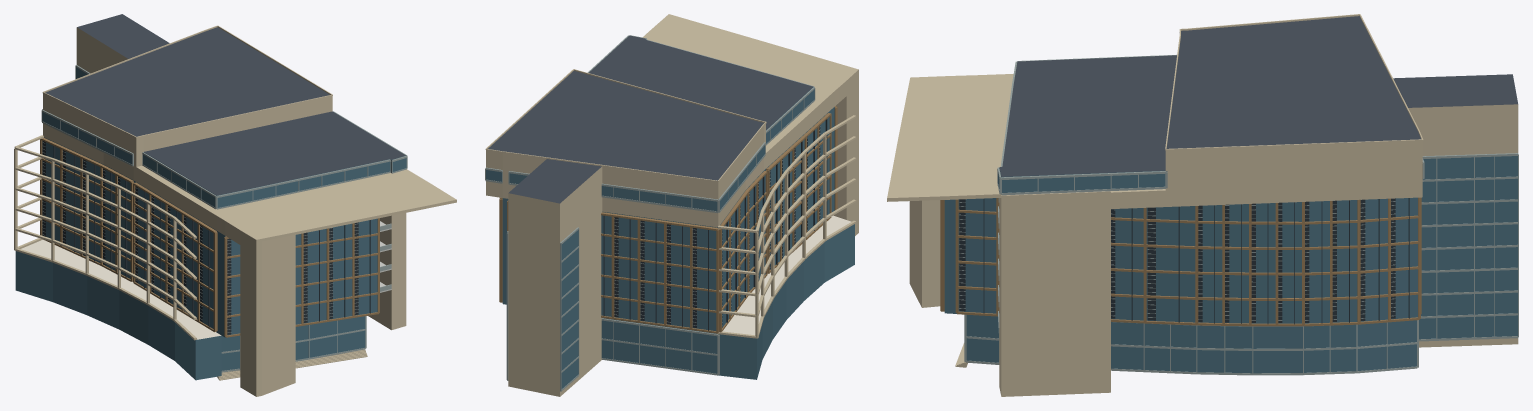
Rendered from oba-oosterdok.glb.
3 views of the same model, side by side, from view 1: azimuth 30°, elevation 25°; view 2: azimuth 150°, elevation 25°; view 3: azimuth 270°, elevation 25° (orthographic). The views are drawn at different scales.
Visible parts, largest first — view 1: oba-oosterdok; view 2: oba-oosterdok; view 3: oba-oosterdok.
Part boxes in pixels (box(x1,y1,x2,y2)): oba-oosterdok: box(14, 14, 456, 396); oba-oosterdok: box(485, 14, 858, 396); oba-oosterdok: box(887, 14, 1518, 396).
Size of the model in its own units: 53.81 by 37.23 by 86.38.
